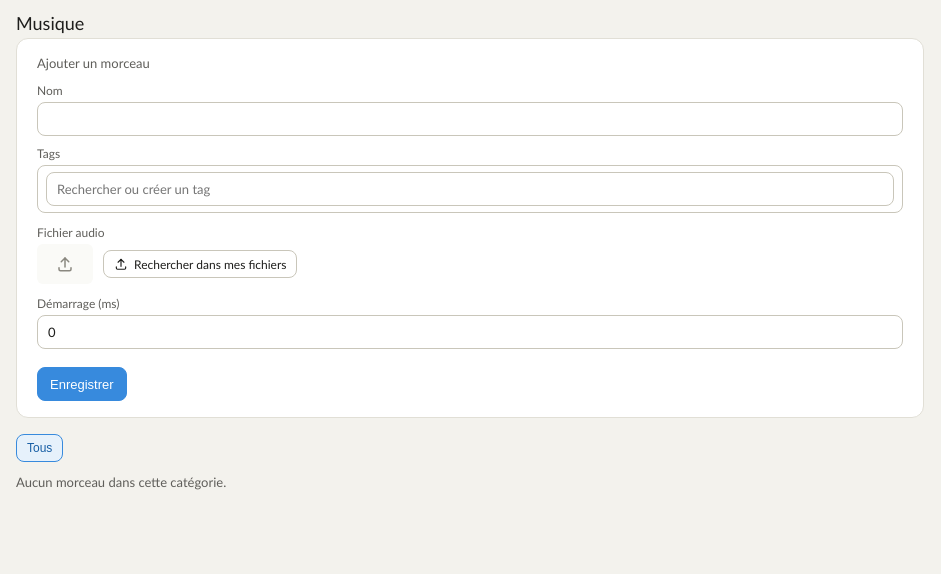
Test: MusiqueScreen › shows validation errors and does not save when the add form is submitted empty
Click the button "Enregistrer".
click(82, 384)  # box [37,367,127,401]
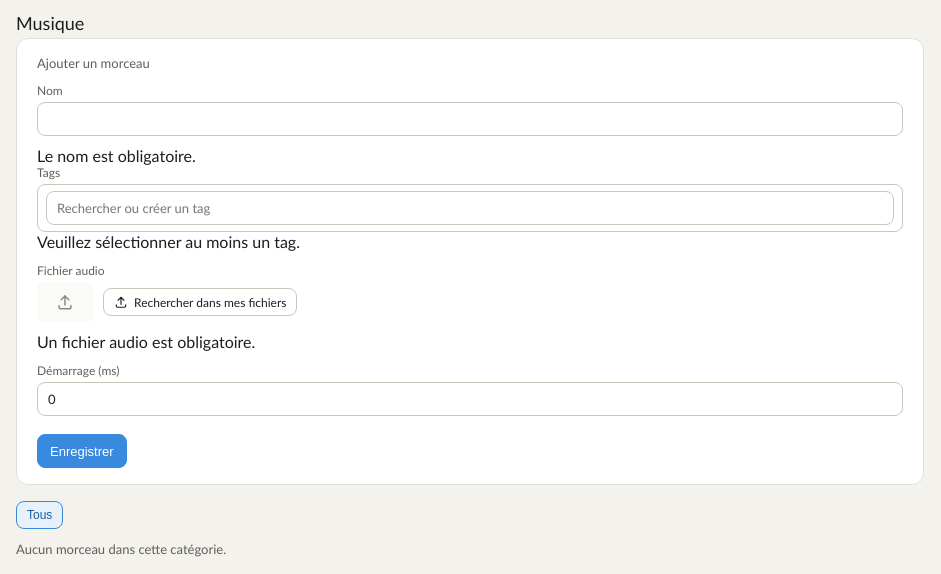
expect the text "Le nom est obligatoire." is shown: met, box [37,146,196,165]
expect the text "Veuillez sélectionner au moins un tag." is shown: met, box [37,232,300,251]
expect the text "Un fichier audio est obligatoire." is shown: met, box [37,332,255,351]
